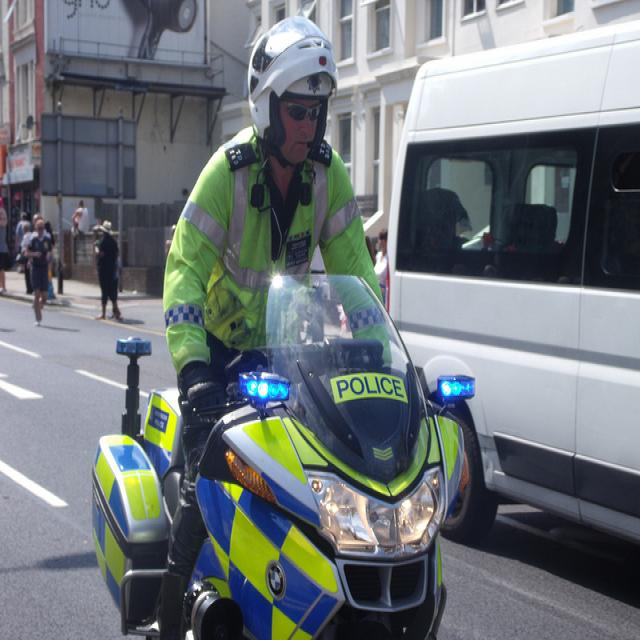motor: (93, 266, 476, 640)
